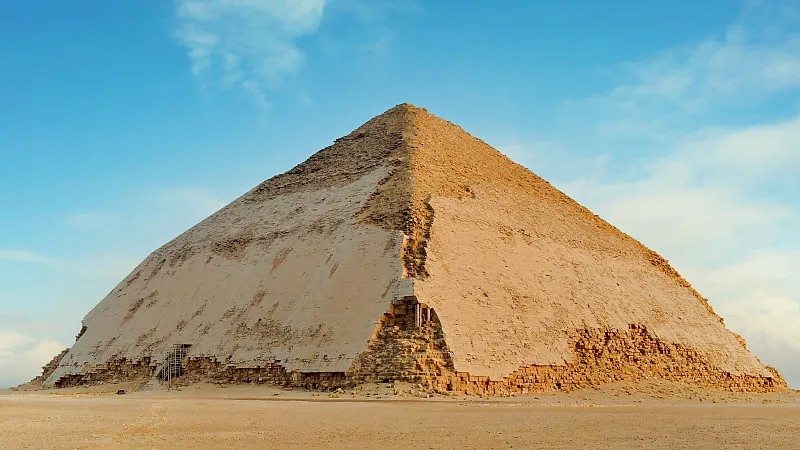Pyramid: (33, 103, 792, 396)
